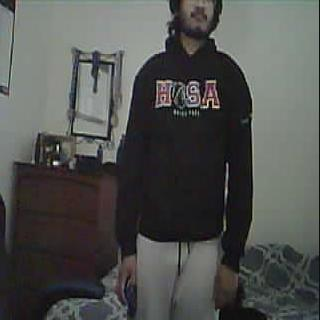HOSA Hoodie: (126, 32, 254, 242)
White Sweatpants: (131, 236, 225, 320)
